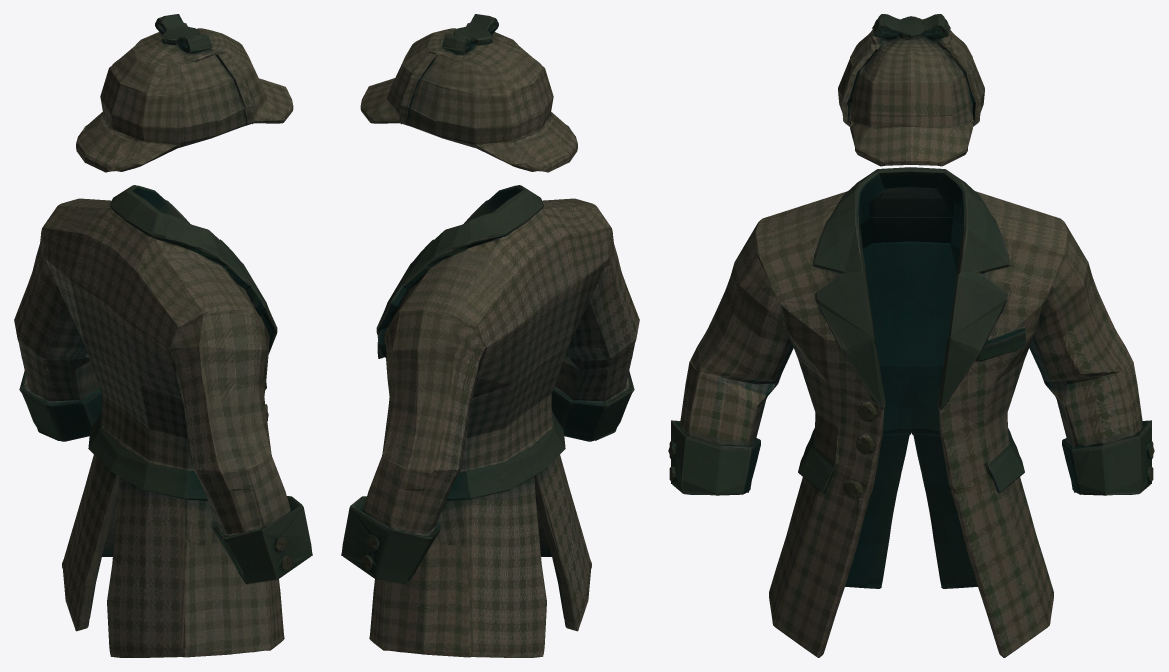
Rendered from tripo_convert_7fdacf0a-91a0-4f29-a826-b967da7c8e82.fbx.
The picture shows the model from 3 angles, left to right: view 1: azimuth 30°, elevation 25°; view 2: azimuth 150°, elevation 25°; view 3: azimuth 270°, elevation 25°; orthographic projection. The views are drawn at different scales.
Parts seen in each view (by area): view 1: tripo_node_7fdacf0a; view 2: tripo_node_7fdacf0a; view 3: tripo_node_7fdacf0a.
Part boxes in pixels (x1=…): tripo_node_7fdacf0a: x1=14, y1=14, x2=312, y2=657; tripo_node_7fdacf0a: x1=341, y1=14, x2=639, y2=657; tripo_node_7fdacf0a: x1=668, y1=14, x2=1154, y2=657.
Size of the model in its own units: 0.3542 by 1 by 0.7182.
Materials: 1 (1 with a texture image).
